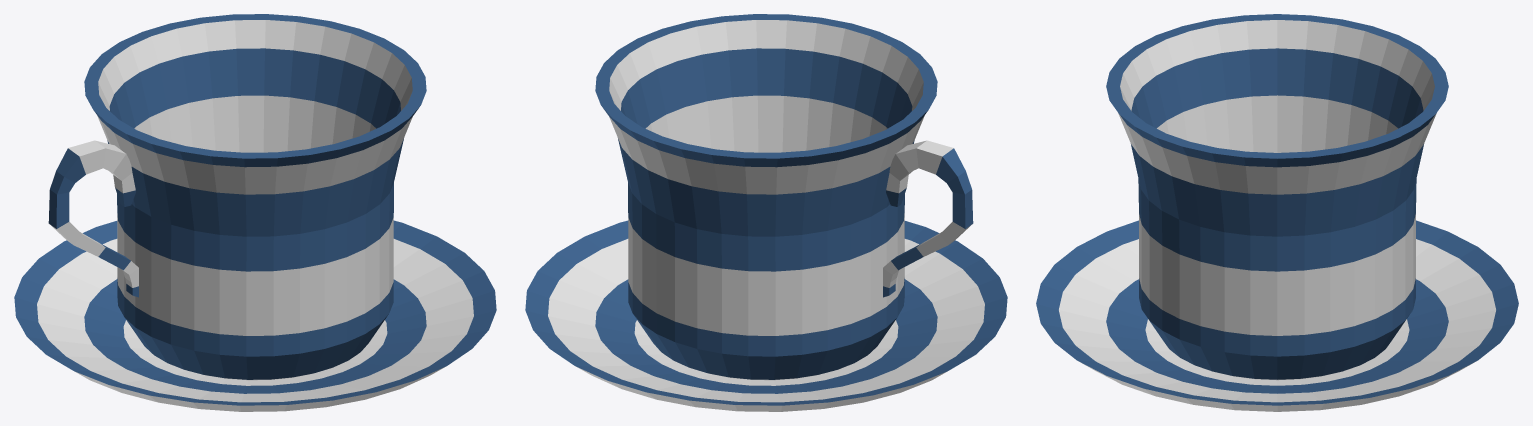
Rendered from TeaCup.fbx.
3 views of the same model, side by side, from view 1: azimuth 30°, elevation 25°; view 2: azimuth 150°, elevation 25°; view 3: azimuth 270°, elevation 25° (orthographic).
Visible parts, largest first — view 1: Tea Cup; view 2: Tea Cup; view 3: Tea Cup.
Part boxes in pixels (bbox=[...]): Tea Cup: bbox=[14, 14, 496, 411]; Tea Cup: bbox=[525, 14, 1007, 411]; Tea Cup: bbox=[1036, 14, 1518, 411].
Bounding box in the file's own units: 446 × 279 × 446.
